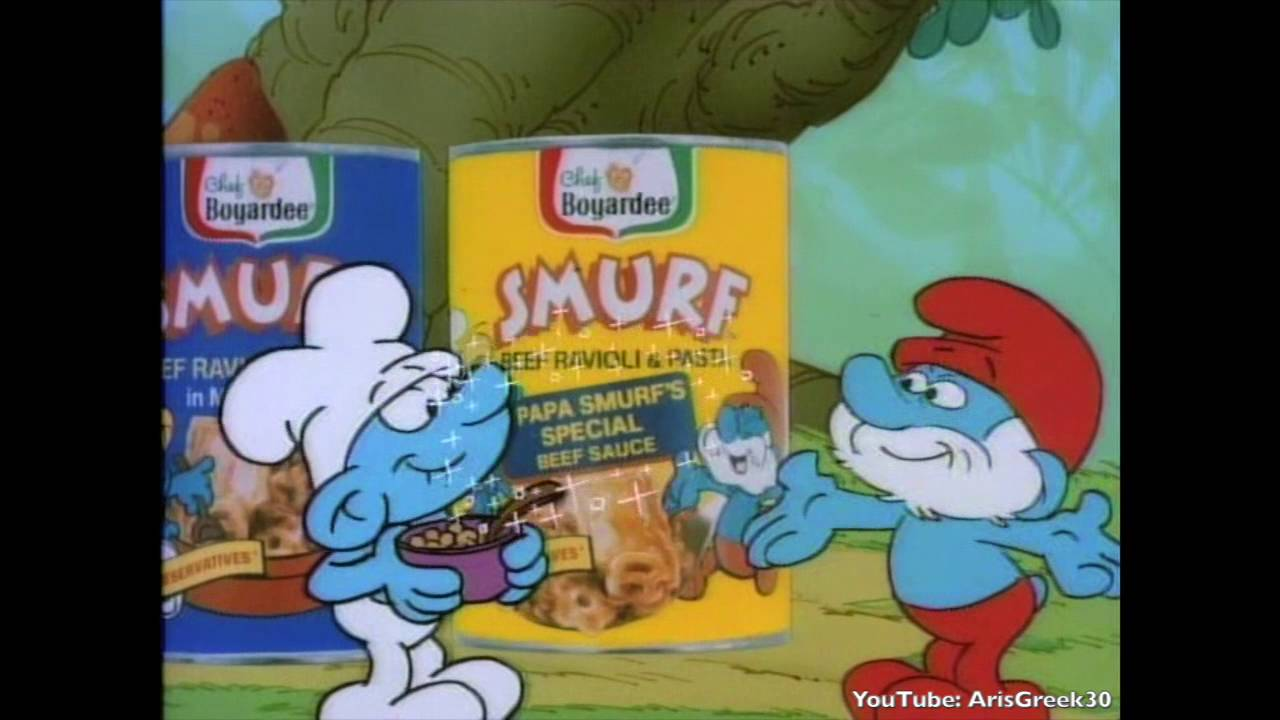smurf: (742, 274, 1120, 720), (218, 261, 550, 720)
